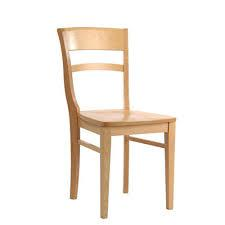chair: (46, 10, 186, 215)
